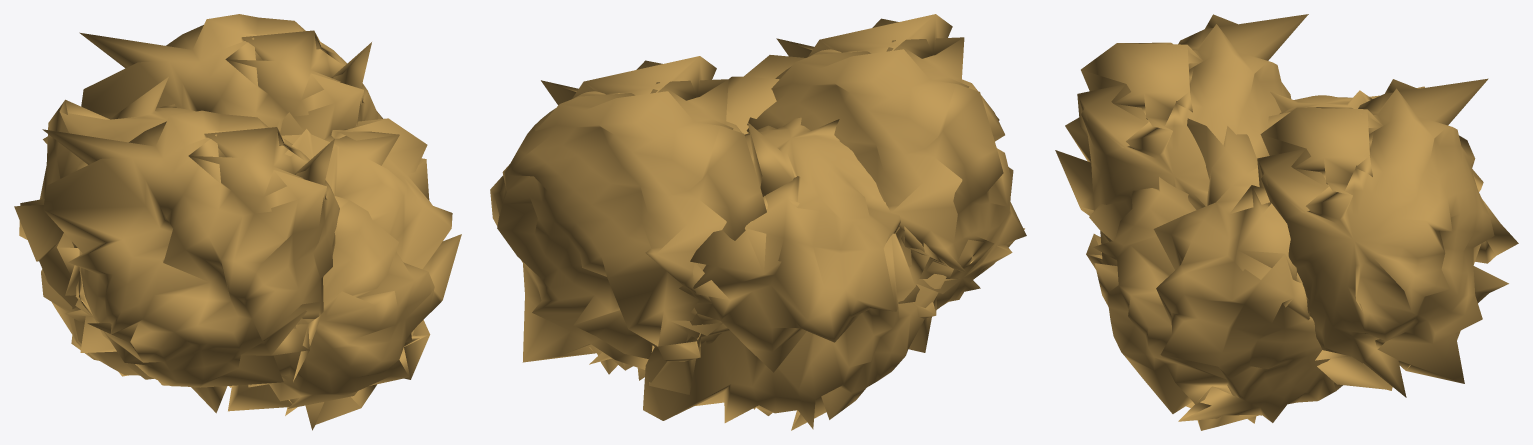
Rendered from comet-explosion.glb.
3 renders of one model, left to right at view 1: azimuth 30°, elevation 25°; view 2: azimuth 150°, elevation 25°; view 3: azimuth 270°, elevation 25°, orthographic. The views are drawn at different scales.
Parts seen in each view (by area): view 1: Kugel.002, Kugel.001, Kugel.003, Kugel; view 2: Kugel.003, Kugel, Kugel.002, Kugel.001; view 3: Kugel.003, Kugel.001, Kugel.002, Kugel.
Part boxes in pixels (left/top/right/bottom): Kugel.002: left=42, top=110, right=339, bottom=387; Kugel.001: left=228, top=112, right=461, bottom=430; Kugel.003: left=79, top=14, right=383, bottom=139; Kugel: left=14, top=76, right=227, bottom=413; Kugel.003: left=490, top=56, right=766, bottom=394; Kugel: left=589, top=117, right=951, bottom=430; Kugel.002: left=746, top=14, right=1026, bottom=352; Kugel.001: left=726, top=55, right=805, bottom=134; Kugel.003: left=1257, top=78, right=1518, bottom=397; Kugel.001: left=1093, top=118, right=1342, bottom=430; Kugel.002: left=1055, top=14, right=1308, bottom=269; Kugel: left=1268, top=86, right=1475, bottom=339.
Bounding box in the file's own units: 11.09 × 9.05 × 11.31.
